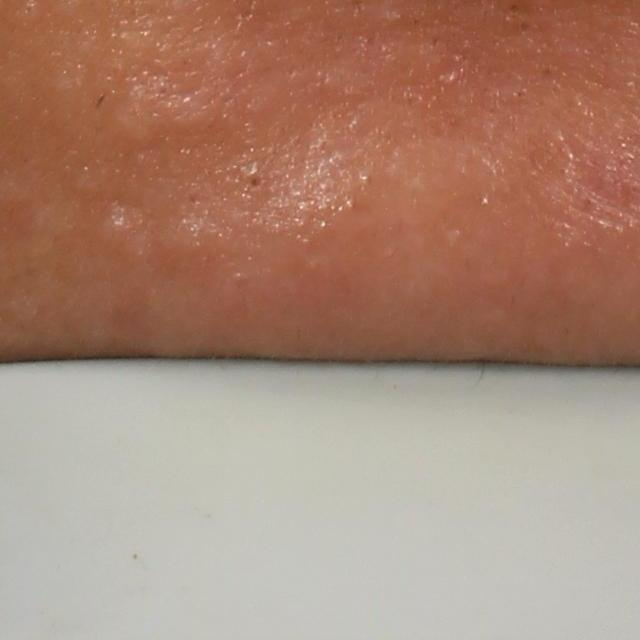comedo: (240, 166, 268, 195)
hypertrophic_scar: (113, 74, 221, 147)
